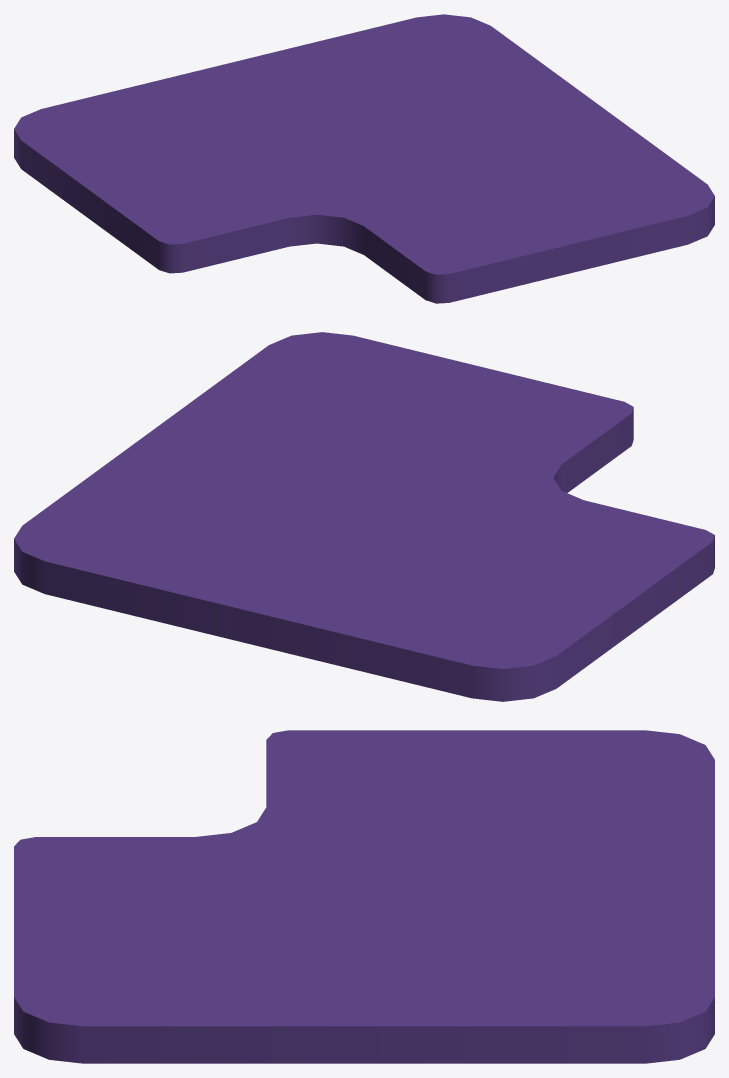
Rendered from Platform.fbx.
3 views of the same model, one above another, from view 1: azimuth 30°, elevation 25°; view 2: azimuth 150°, elevation 25°; view 3: azimuth 270°, elevation 25° (orthographic). The views are drawn at different scales.
Visible parts, largest first — view 1: Platform; view 2: Platform; view 3: Platform.
Part boxes in pixels (x1,y1,x2,y2): Platform: (14,14,714,303); Platform: (14,332,714,701); Platform: (14,730,714,1063).
Bounding box in the file's own units: 1250 × 1250 × 73.39.
